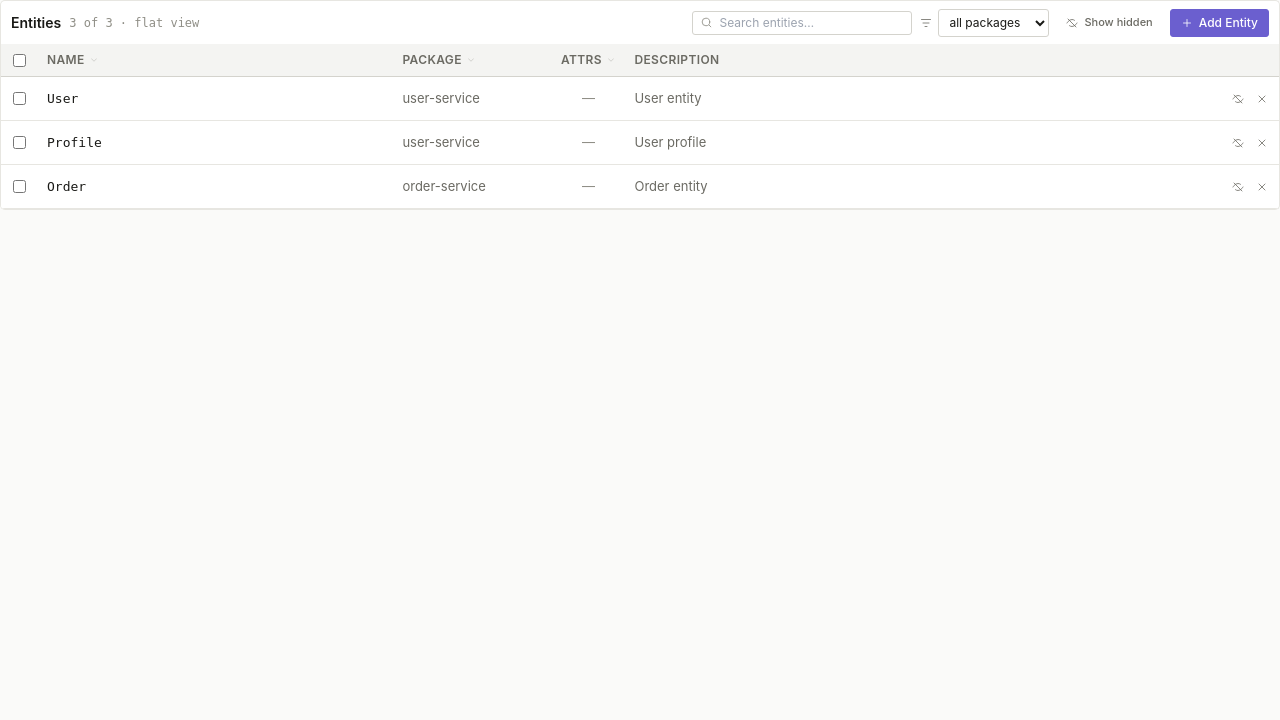
Test: EntityFlatTable › opens the side panel when a row is clicked and saves the new name
Click the text "User" at (63, 99), box [47,89,78,108]
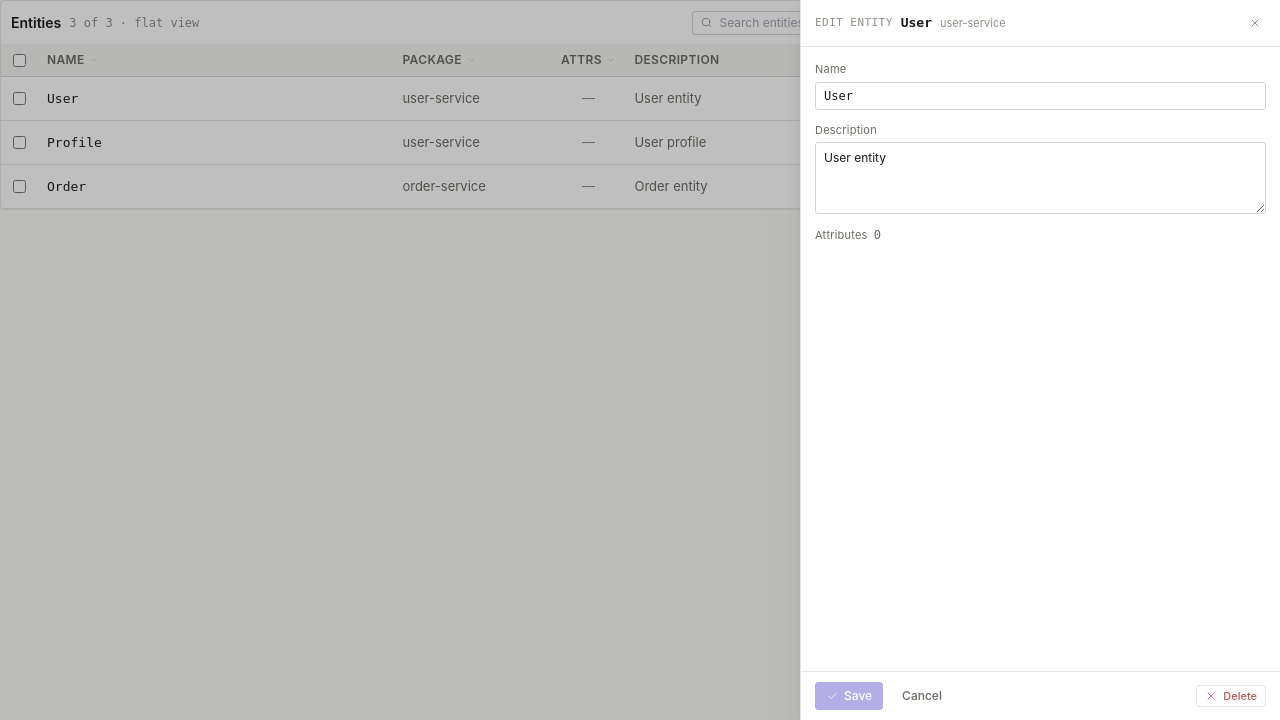
Result: the field labelled "Name" holds "User"
Replace the text in the field labelled "Name" with "Customer" at (1040, 96), box [815,82,1266,110]
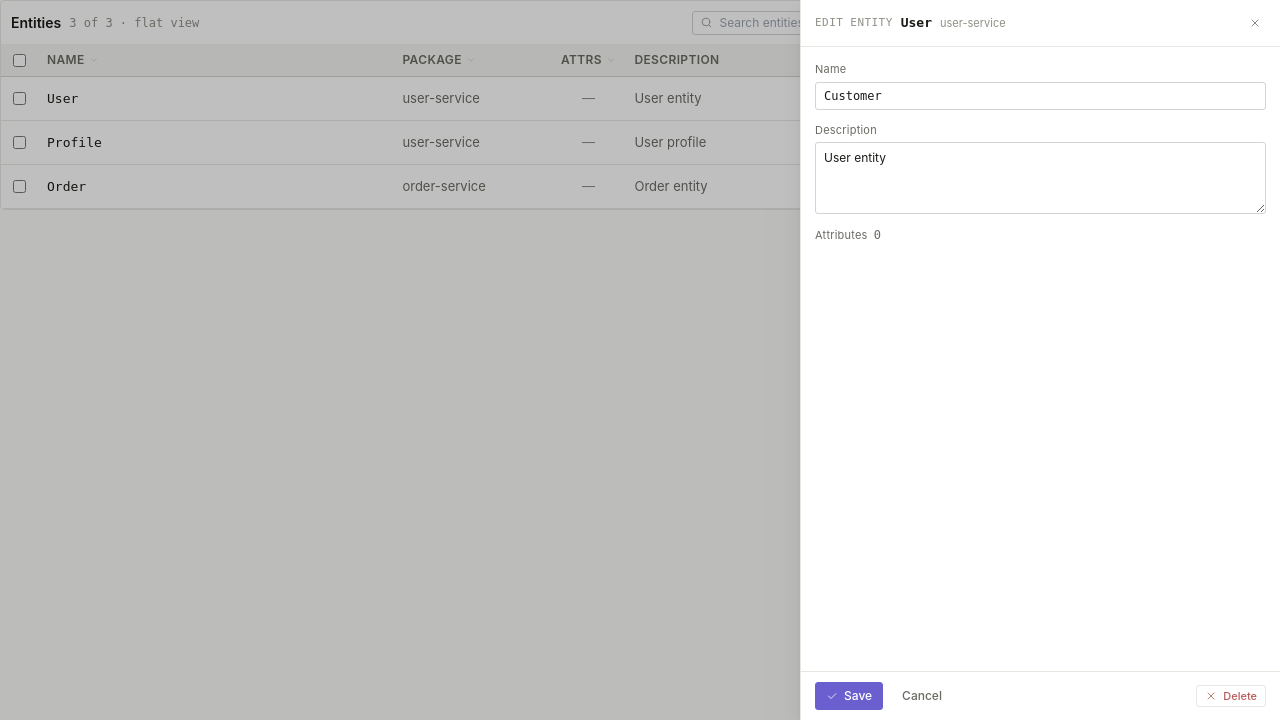
Click the button "Save" at (849, 696), box [815,682,883,710]
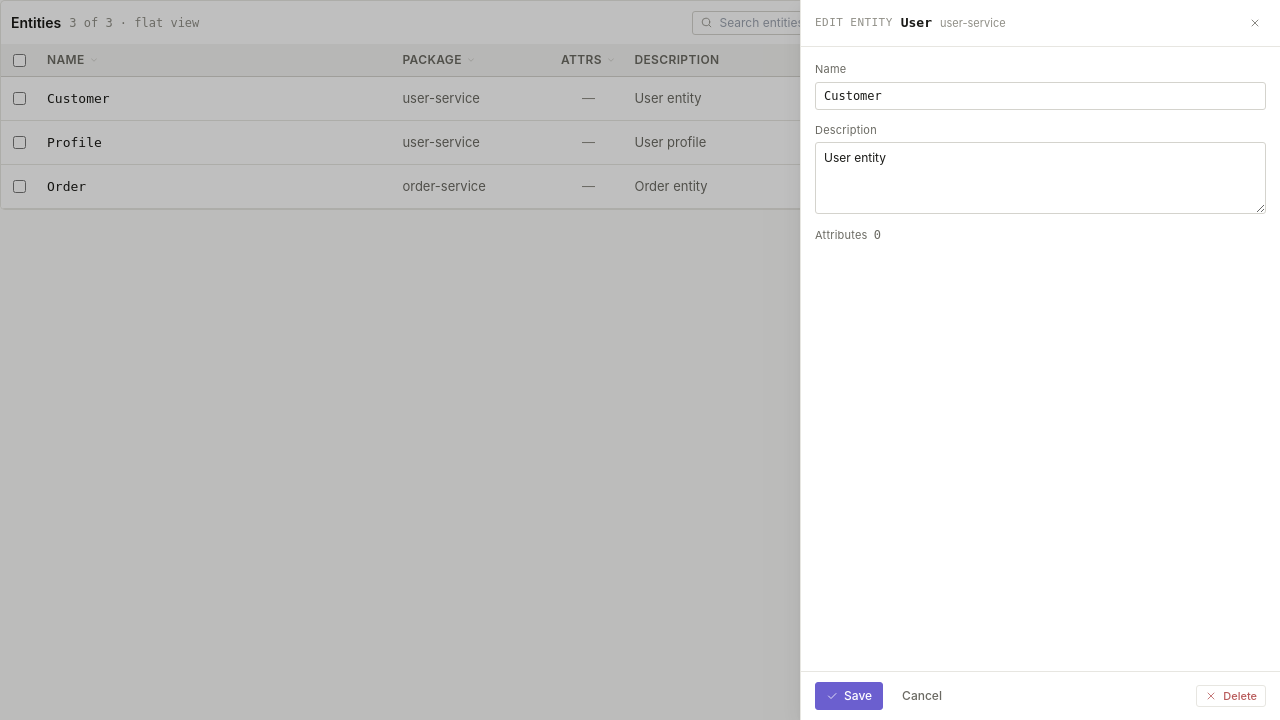
Result: the text "User" reads "Customer" at [47,91,110,106]
